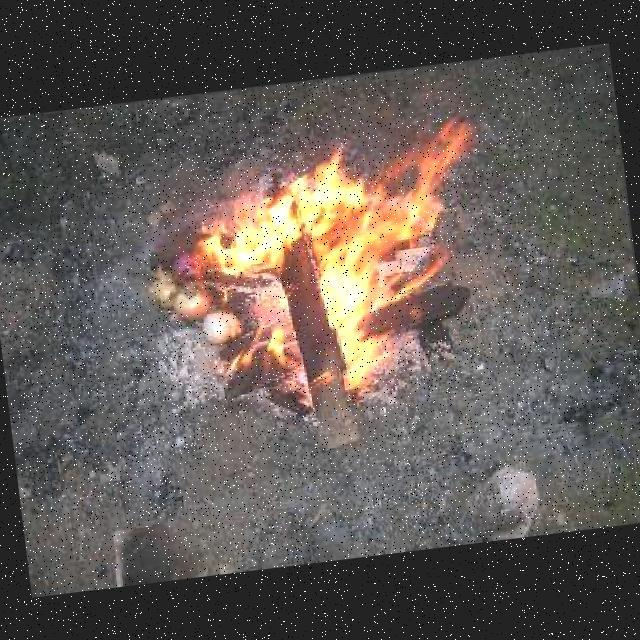Fire: (162, 107, 513, 402)
